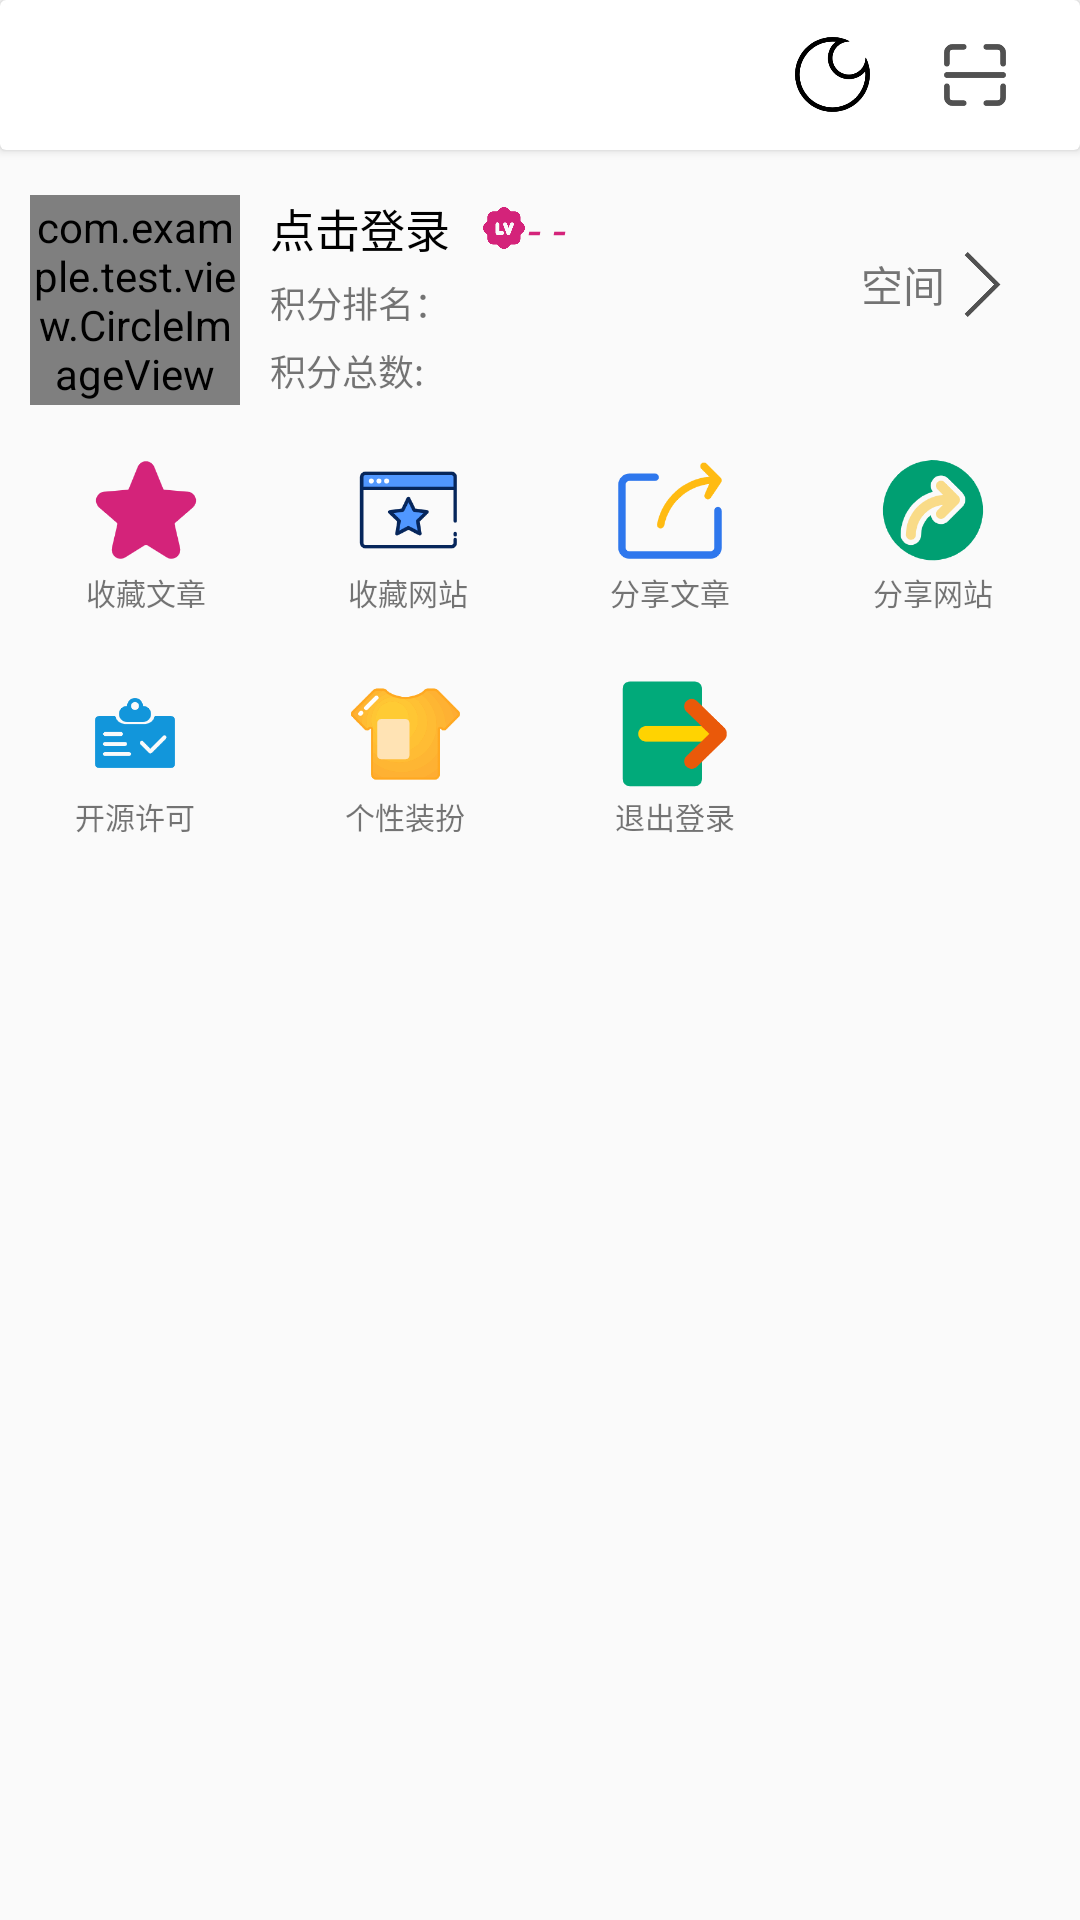

Point at icon controls on the screen. Image size 1080 × 1920, points as [x,y].
arrow: [983,284]
level: [504,228]
scan: [975,75]
